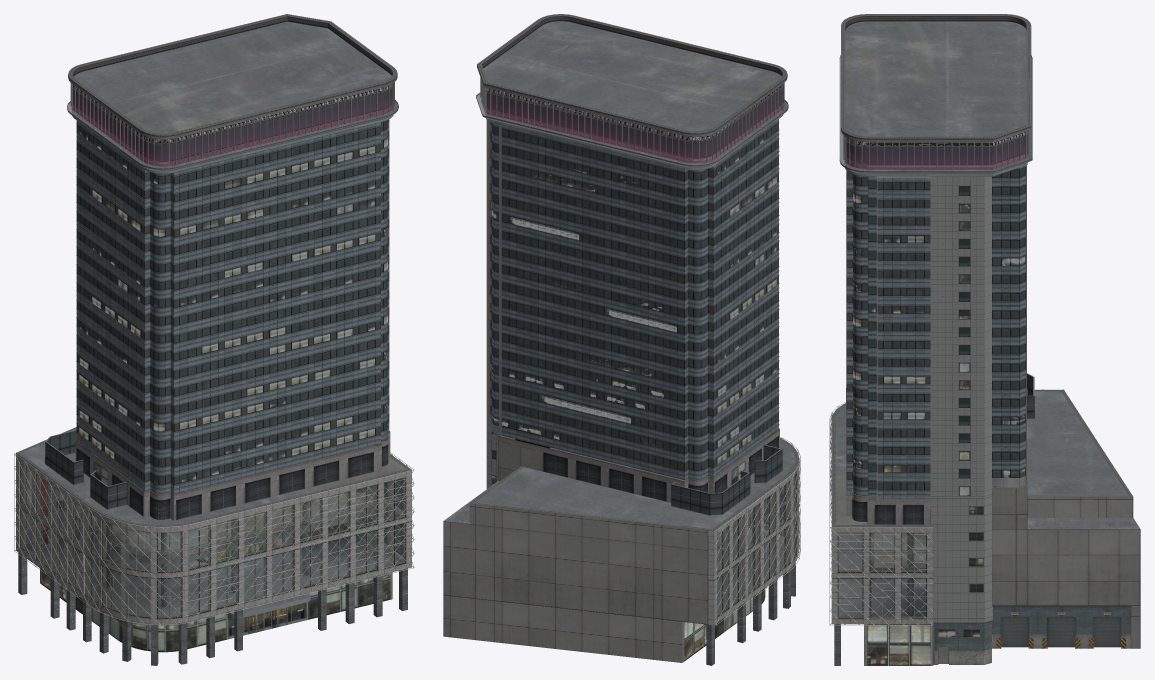
The model's file is singapore_office_skyscraper_free.glb.
3 renders of one model, left to right at view 1: azimuth 30°, elevation 25°; view 2: azimuth 150°, elevation 25°; view 3: azimuth 270°, elevation 25°, orthographic. The views are drawn at different scales.
Visible parts, largest first — view 1: Cube.003_4, Cube.009_3, Cube.004_2, Cube.027_5, Cube.001_1, Cube.002_7, Cube.036_6; view 2: Cube.003_4, Cube.001_1, Cube.009_3, Cube.002_7, Cube.004_2, Cube.036_6, Cube.027_5; view 3: Cube.003_4, Cube.001_1, Cube.009_3, Cube.027_5, Cube.002_7, Cube.004_2.
Boxes of the visible parts, x1,y1,x2,y2 form: Cube.003_4: [16, 14, 411, 665]; Cube.009_3: [20, 462, 405, 618]; Cube.004_2: [14, 452, 414, 625]; Cube.027_5: [24, 468, 398, 616]; Cube.001_1: [40, 431, 392, 599]; Cube.002_7: [41, 132, 389, 643]; Cube.036_6: [20, 464, 404, 617]; Cube.003_4: [444, 14, 798, 665]; Cube.001_1: [443, 429, 779, 662]; Cube.009_3: [717, 470, 797, 615]; Cube.002_7: [491, 139, 776, 659]; Cube.004_2: [715, 437, 800, 625]; Cube.036_6: [717, 476, 797, 615]; Cube.027_5: [515, 439, 783, 611]; Cube.003_4: [831, 14, 1140, 665]; Cube.001_1: [846, 388, 1140, 665]; Cube.009_3: [838, 533, 926, 618]; Cube.027_5: [838, 533, 925, 616]; Cube.002_7: [853, 193, 1025, 664]; Cube.004_2: [829, 389, 1064, 625].
Size of the model in its own units: 59.28 by 106 by 56.44.
Materials: 7 (6 with a texture image).
